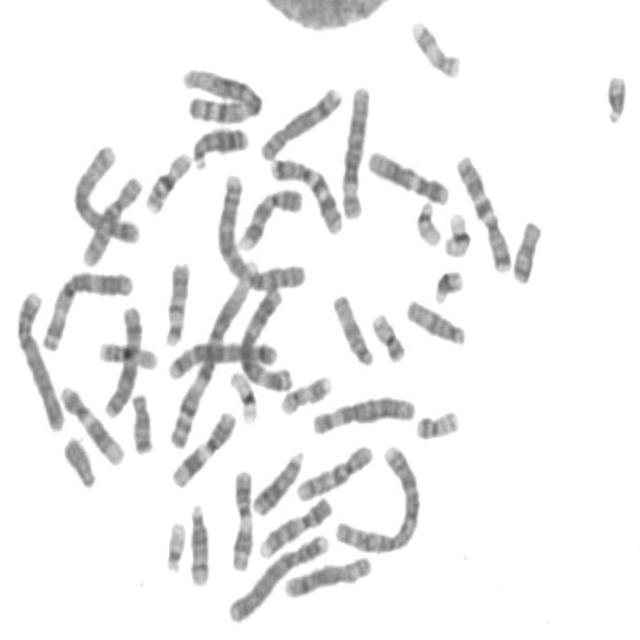A1: (164, 251, 262, 451), (177, 59, 265, 125)
A2: (211, 165, 309, 294), (330, 437, 424, 555)
A3: (37, 263, 136, 352), (235, 280, 295, 394)
B4: (222, 525, 332, 625), (11, 282, 67, 432)
B5: (67, 136, 143, 245), (162, 333, 281, 382)
C10: (77, 168, 146, 270), (291, 436, 376, 503)
C11: (166, 403, 238, 490), (225, 462, 256, 574)
C12: (54, 378, 126, 467), (362, 142, 452, 206)
C6: (307, 387, 418, 437), (336, 76, 373, 222)
C7: (450, 146, 514, 274), (265, 150, 346, 236)
C8: (254, 78, 344, 162), (279, 548, 375, 600)
C9: (254, 489, 334, 561), (234, 180, 305, 252)
D13: (246, 444, 306, 518), (187, 118, 251, 172)
D14: (154, 262, 195, 344), (184, 495, 212, 589)
D15: (327, 286, 377, 368), (401, 291, 469, 347)
E16: (139, 142, 194, 215), (93, 334, 160, 372)
E17: (405, 11, 464, 80), (276, 367, 334, 416)
E18: (508, 212, 544, 286), (126, 386, 155, 456)
F19: (224, 363, 261, 426), (439, 204, 475, 259)
F20: (366, 304, 409, 364), (410, 401, 462, 441)
G21: (600, 66, 630, 126), (429, 261, 466, 305)
G22: (410, 192, 444, 248), (159, 513, 189, 575)
X: (98, 298, 144, 419)
Y: (58, 428, 99, 490)
